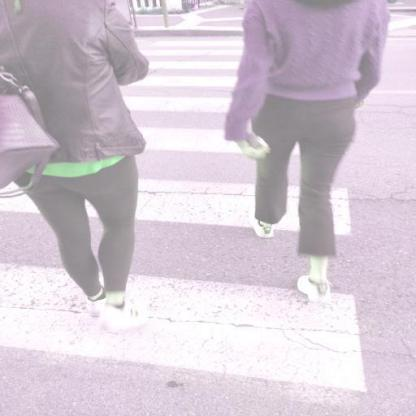crosswalk: (0, 170, 375, 398)
